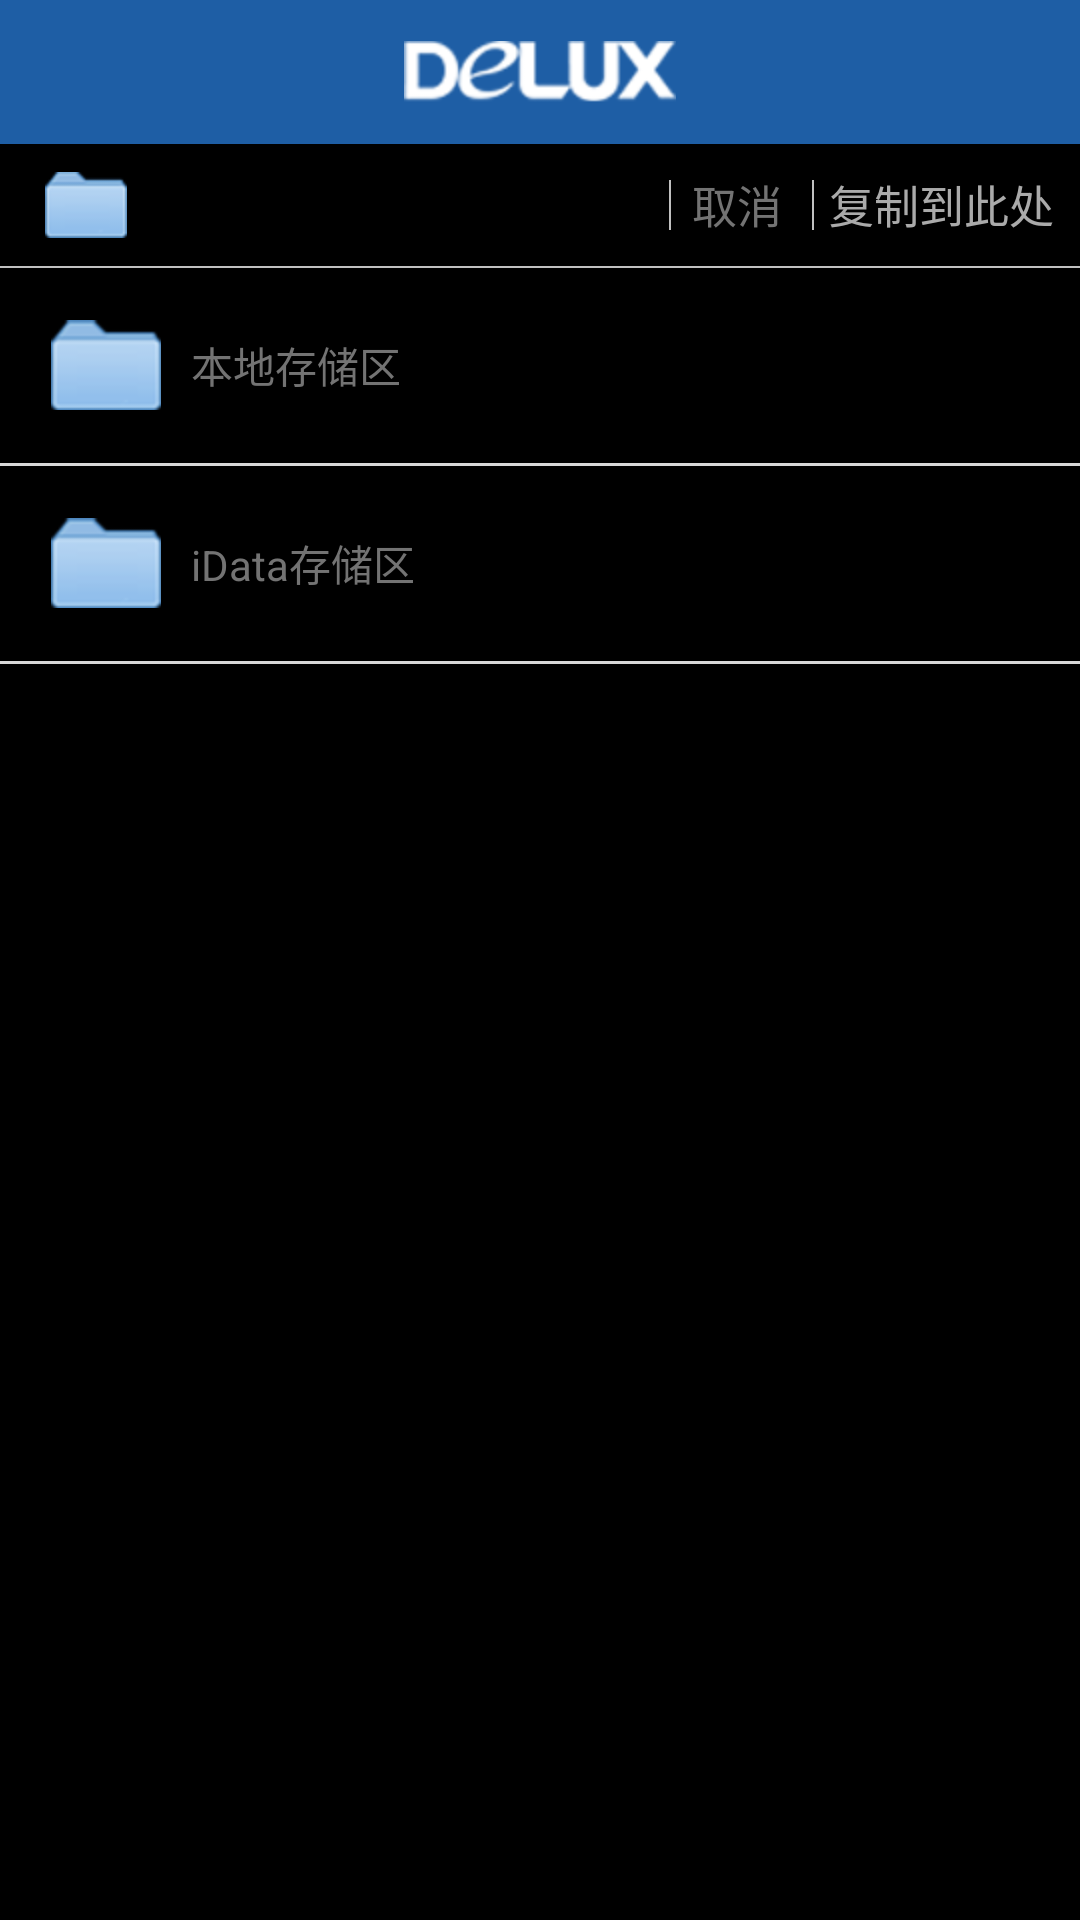

Where to tap for icons on this 1080*1920 app screen, as [x,y]:
folder: [86,205], [106,365], [106,563]
